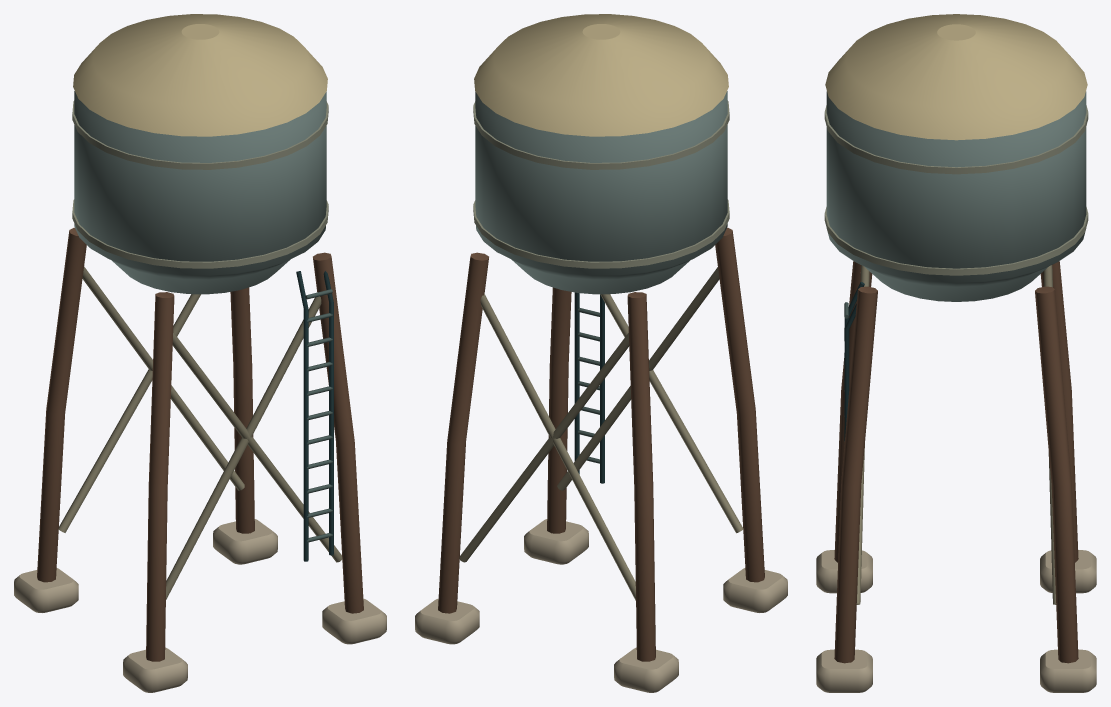
Rendered from water_tower.glb.
3 views of the same model, side by side, from view 1: azimuth 30°, elevation 25°; view 2: azimuth 150°, elevation 25°; view 3: azimuth 270°, elevation 25° (orthographic). The views are drawn at different scales.
Parts seen in each view (by area): view 1: Water_tower; view 2: Water_tower; view 3: Water_tower.
Part boxes in pixels (<box>): Water_tower: <box>14,14,386,692</box>; Water_tower: <box>415,14,787,692</box>; Water_tower: <box>816,14,1096,692</box>.
Bounding box in the file's own units: 2.43 × 5.51 × 2.33.
